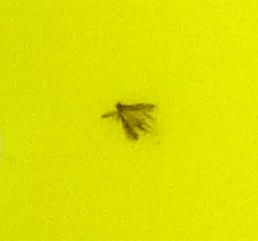Trichoptera: (100, 100, 158, 141)
